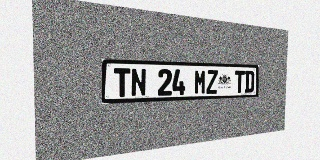2: (158, 69, 172, 96)
4: (172, 69, 185, 95)
D: (244, 71, 254, 93)
M: (194, 70, 206, 94)
N: (131, 68, 146, 97)
T: (114, 68, 130, 97), (234, 70, 245, 93)
Z: (206, 70, 218, 94)
